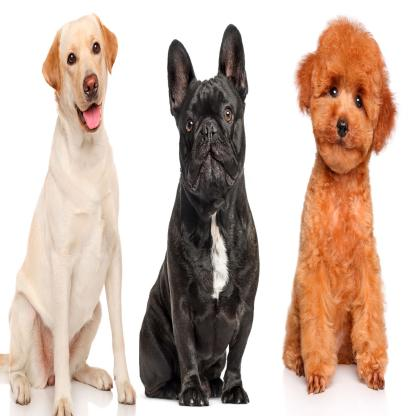dog: (2, 14, 137, 414), (140, 23, 260, 404), (283, 17, 398, 394)
